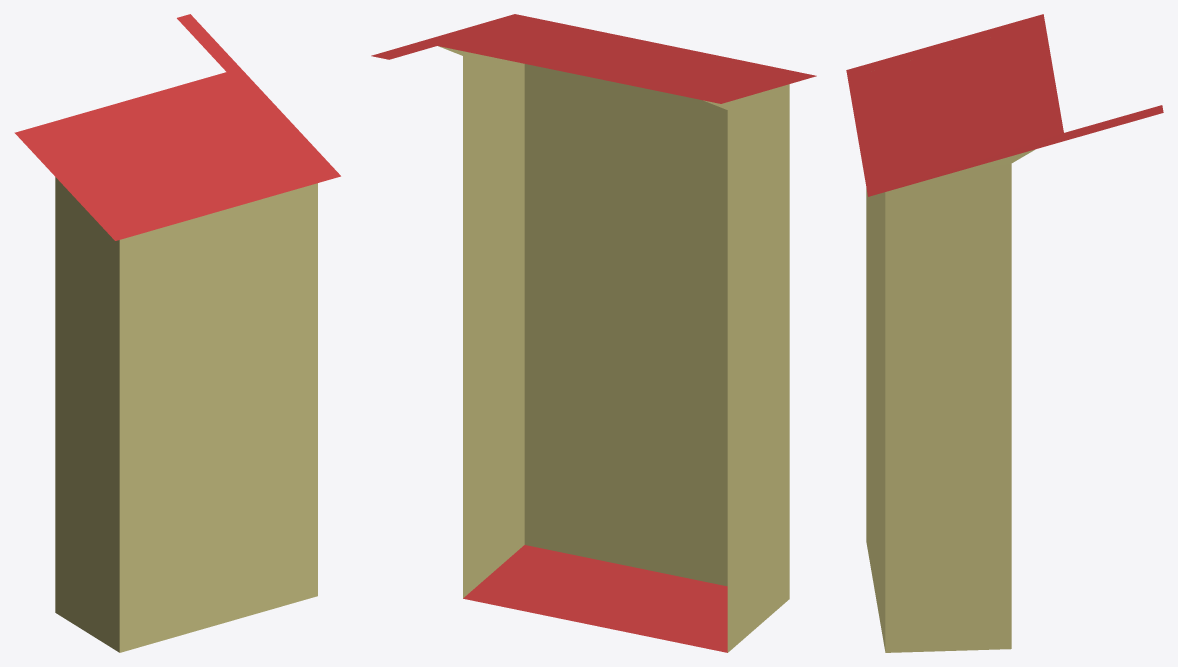
3 renders of one model, left to right at view 1: azimuth 30°, elevation 25°; view 2: azimuth 150°, elevation 25°; view 3: azimuth 270°, elevation 25°, orthographic. The views are drawn at different scales.
Size of the model in its own units: 4.2 by 4.23 by 7.94.
